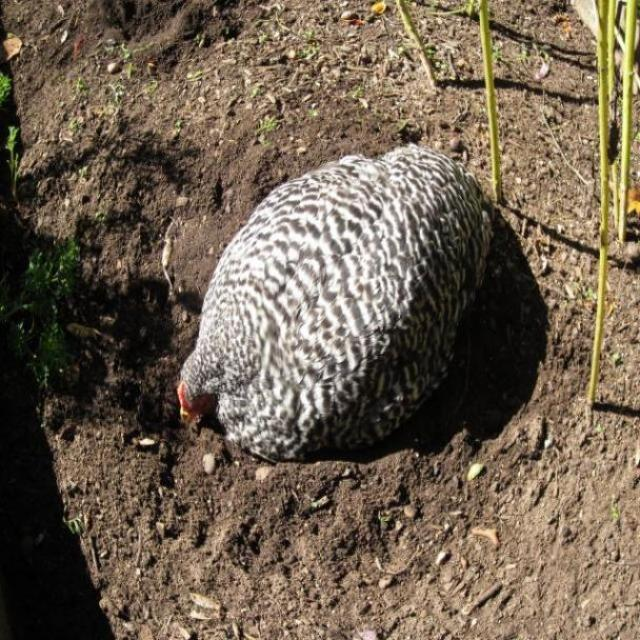Chicken: (179, 149, 486, 457)
